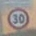limite 30: (6, 7, 30, 29)
